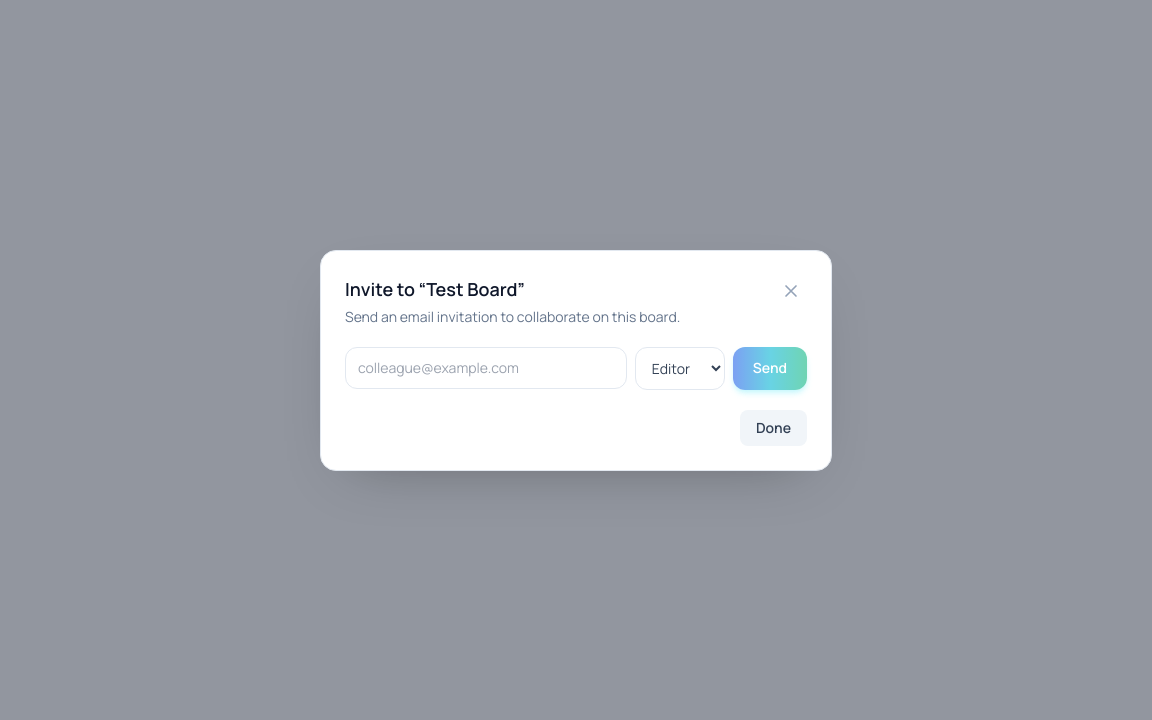
InviteModal › shows email validation error on blur with invalid email
Step 1. Type "invalid" into the field with placeholder "colleague@example.com" → (486, 368), box top-left (345, 346), bottom-right (627, 388)
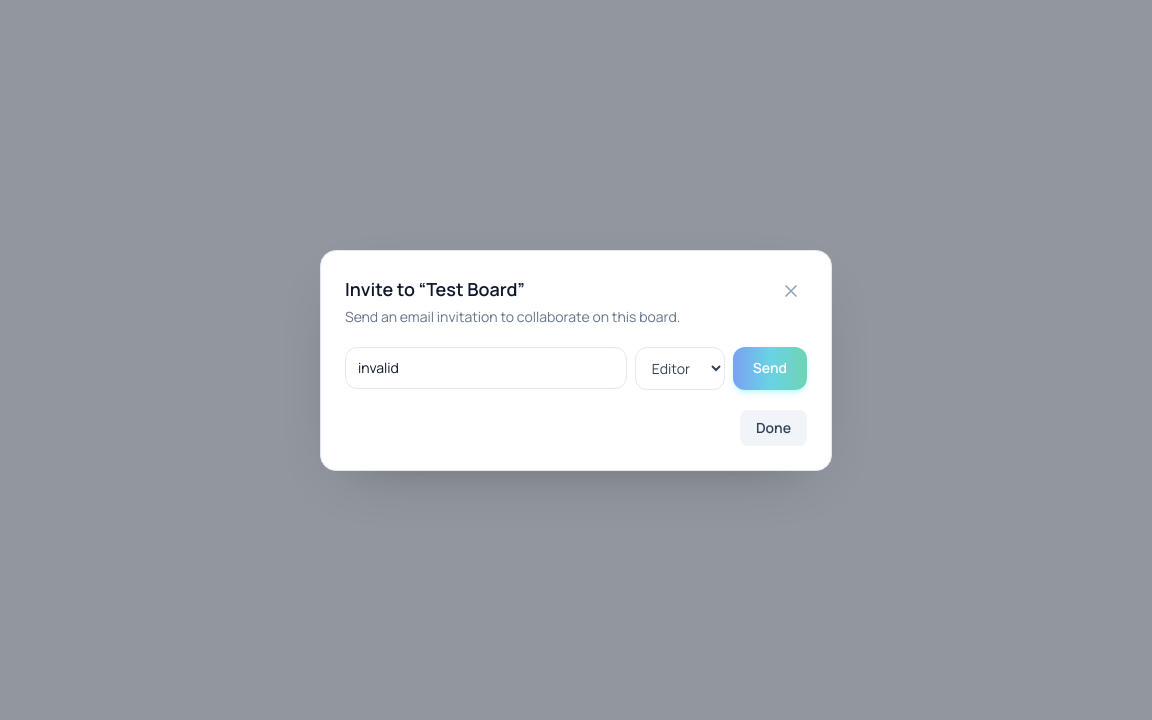
Step 2. Leave the field with placeholder "colleague@example.com", box top-left (345, 346), bottom-right (627, 388)
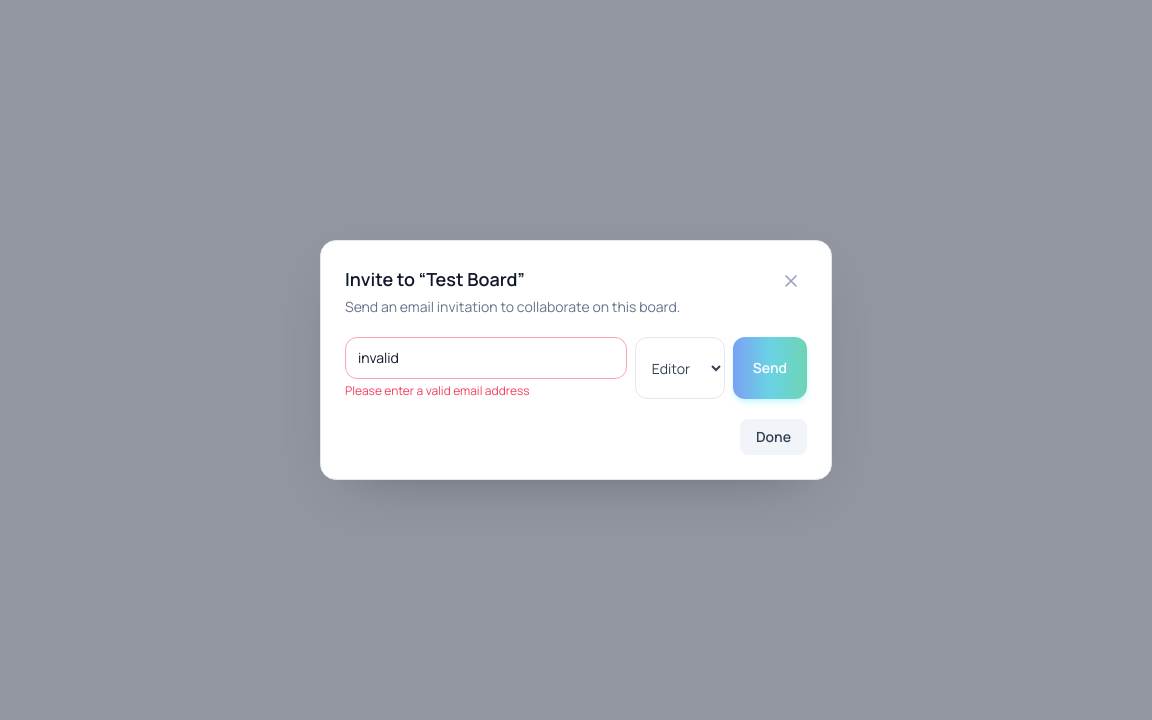
Expected: the text "Please enter a valid email address" is shown, top-left (345, 382), bottom-right (530, 399)
